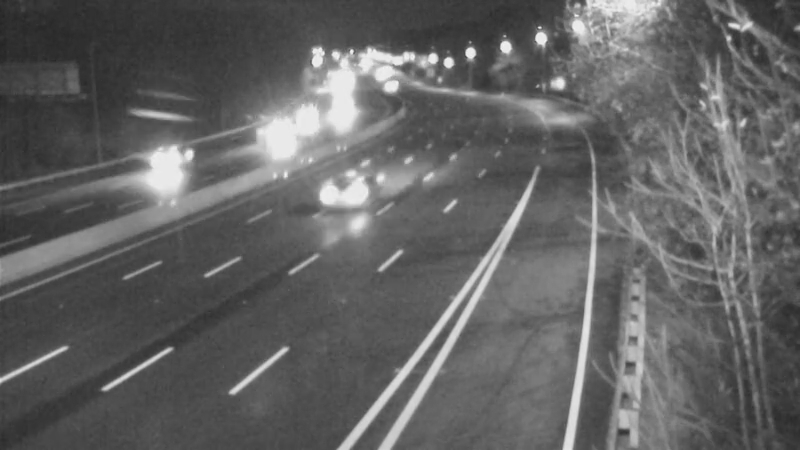vehicle: (302, 154, 382, 234), (123, 125, 203, 205), (256, 120, 306, 170), (278, 95, 328, 145), (316, 92, 366, 142)
